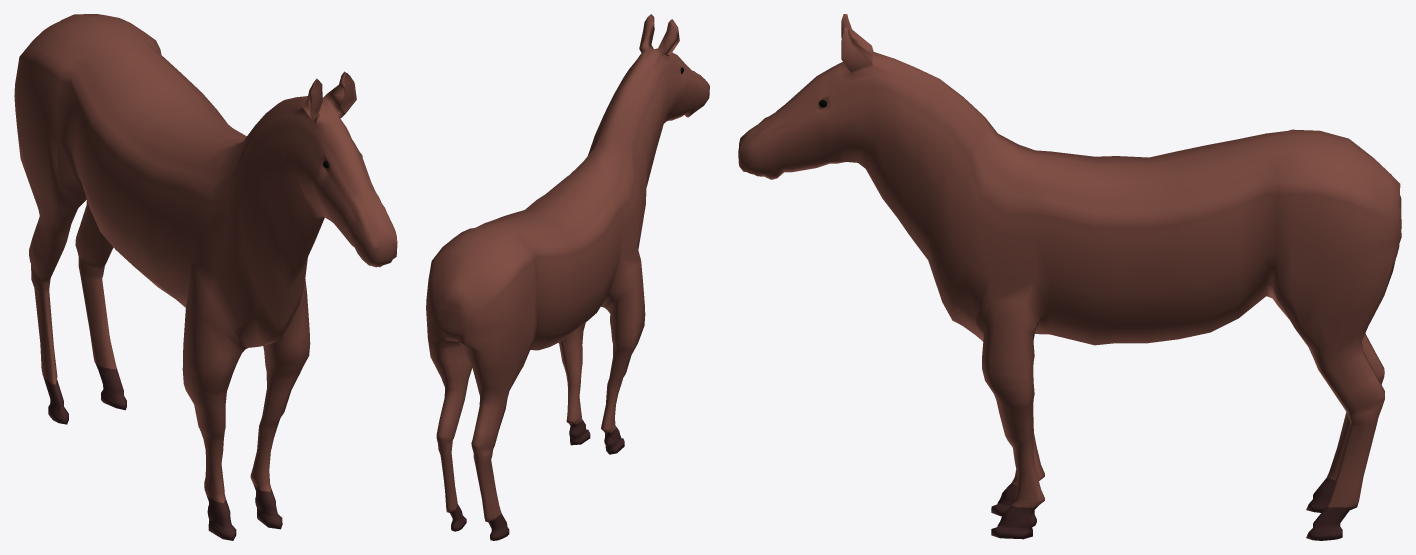
The model's file is Horse.fbx.
3 views of the same model, side by side, from view 1: azimuth 30°, elevation 25°; view 2: azimuth 150°, elevation 25°; view 3: azimuth 270°, elevation 25° (orthographic). The views are drawn at different scales.
Visible parts, largest first — view 1: Plane; view 2: Plane; view 3: Plane.
Part boxes in pixels (bbox=[...]): Plane: bbox=[14, 14, 397, 540]; Plane: bbox=[426, 14, 709, 540]; Plane: bbox=[738, 14, 1401, 540].
Bounding box in the file's own units: 89.1 × 367 × 438.
